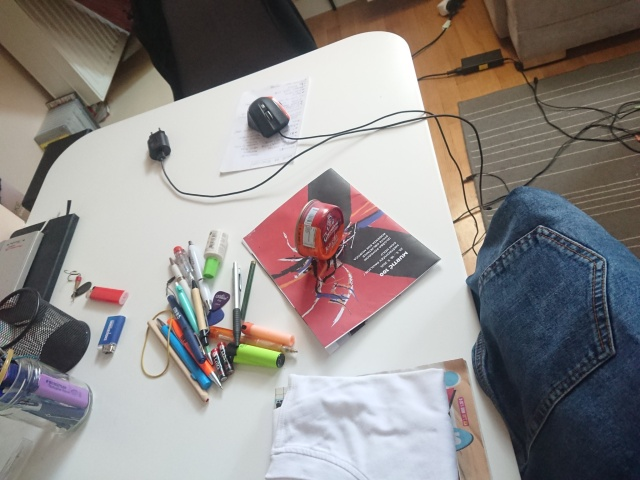Gavrilovic Pork Liver Pate 100g: (292, 196, 346, 262)
